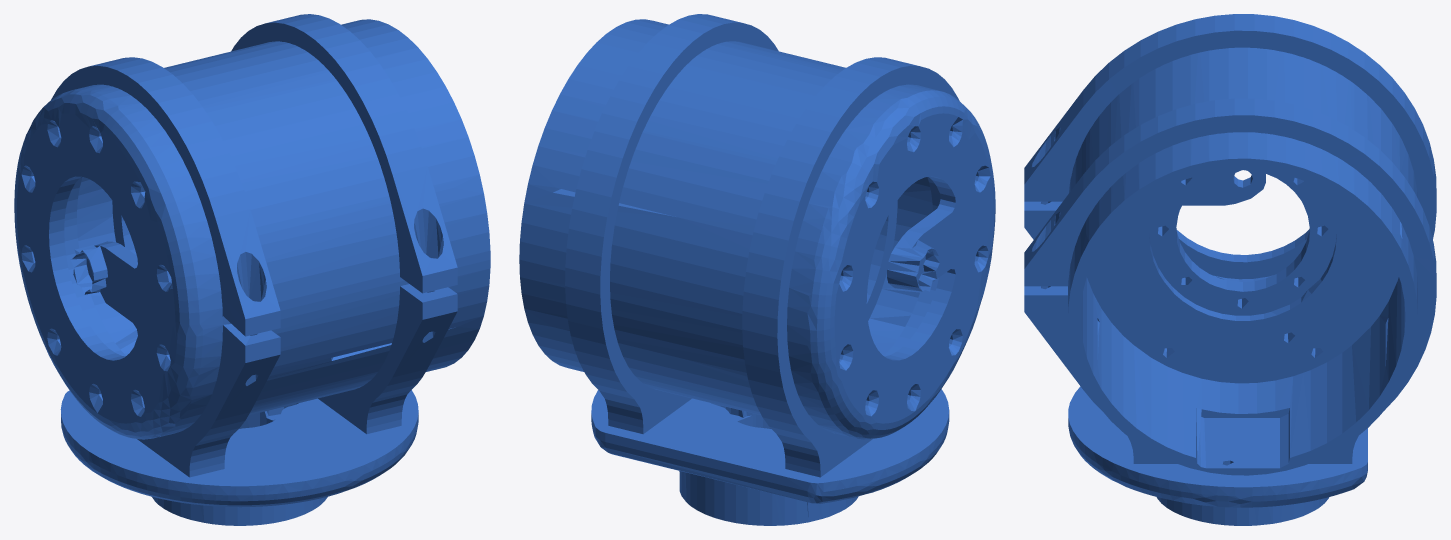
Rendered from S2R1_SH2_neckRoll.dae.
3 views of the same model, side by side, from view 1: azimuth 30°, elevation 25°; view 2: azimuth 150°, elevation 25°; view 3: azimuth 270°, elevation 25° (orthographic). The views are drawn at different scales.
Parts seen in each view (by area): view 1: S2R1_SH2_neckRoll; view 2: S2R1_SH2_neckRoll; view 3: S2R1_SH2_neckRoll.
Boxes of the visible parts, x1,y1,x2,y2 form: S2R1_SH2_neckRoll: (14,14,490,525); S2R1_SH2_neckRoll: (519,14,995,525); S2R1_SH2_neckRoll: (1024,14,1436,525).
Size of the model in its own units: 0.0576 by 0.066 by 0.0748.
